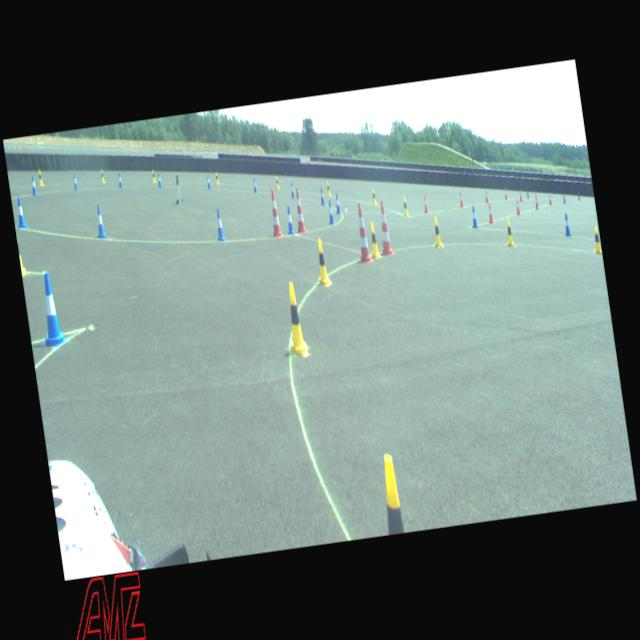blue_cone: (33, 272, 68, 348), (212, 206, 226, 242), (94, 204, 106, 238), (14, 196, 26, 229), (284, 206, 294, 236), (562, 212, 571, 236), (326, 200, 335, 224), (470, 205, 478, 228), (30, 176, 38, 196), (334, 194, 341, 214), (289, 180, 295, 198), (72, 173, 78, 190), (319, 188, 325, 205), (117, 172, 123, 188), (252, 178, 258, 192), (157, 172, 162, 188), (206, 174, 211, 188)
large_orange_cone: (351, 203, 374, 265), (374, 200, 394, 256), (266, 188, 284, 238), (291, 188, 307, 233)
orange_cone: (487, 203, 495, 223), (422, 194, 429, 214), (514, 198, 520, 215), (458, 192, 464, 208), (534, 194, 539, 208), (518, 190, 523, 202), (484, 190, 489, 202), (548, 193, 552, 205), (504, 188, 508, 200)
unknown_cone: (562, 195, 566, 204), (526, 190, 529, 198)
yellow_cone: (378, 454, 406, 536), (282, 282, 309, 358), (312, 238, 333, 287), (15, 226, 26, 276), (367, 222, 380, 258), (431, 217, 443, 248), (503, 218, 515, 248), (591, 225, 602, 255), (401, 196, 409, 217), (371, 188, 377, 205), (38, 170, 44, 186), (100, 169, 106, 183), (214, 172, 220, 184), (275, 176, 280, 190), (326, 182, 331, 196), (152, 168, 156, 182)
